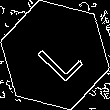L_NW: (26, 26, 84, 84)
